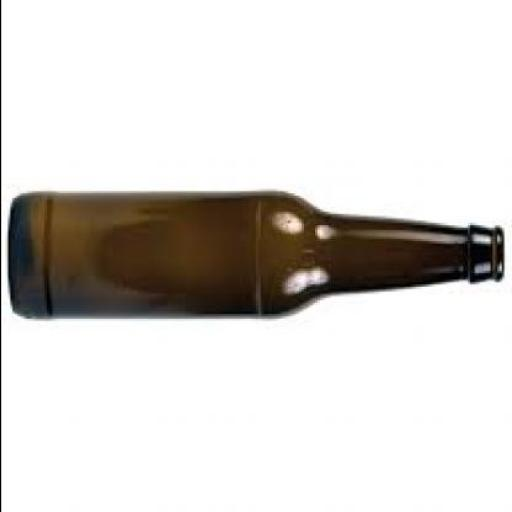glass: (9, 191, 503, 323)
